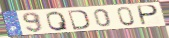0: (93, 8, 114, 28), (116, 6, 136, 27)
9: (22, 12, 44, 34)
D: (67, 9, 91, 31)
P: (137, 5, 160, 26)
Q: (46, 11, 70, 32)
